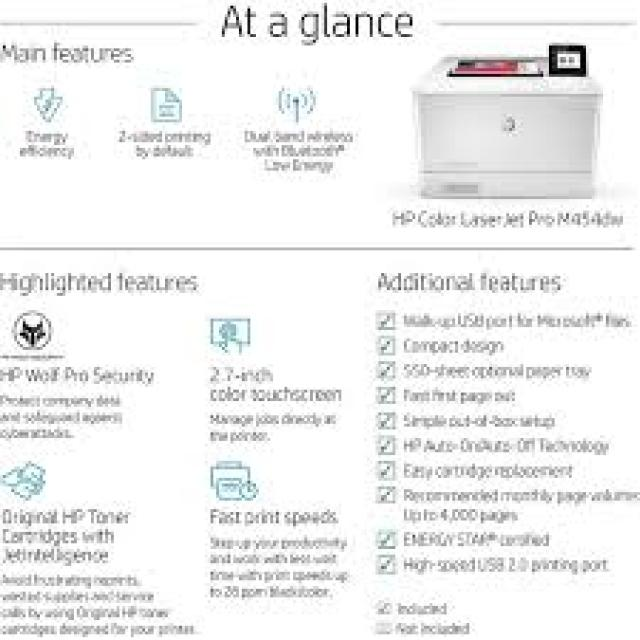printer: (410, 46, 603, 199)
